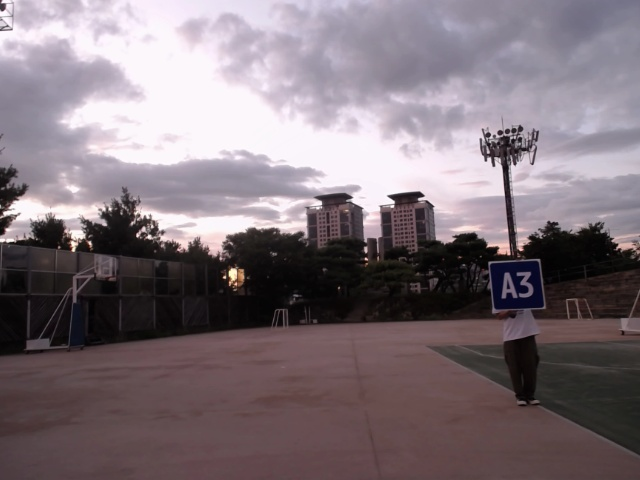delivery_a3: (486, 259, 545, 312)
